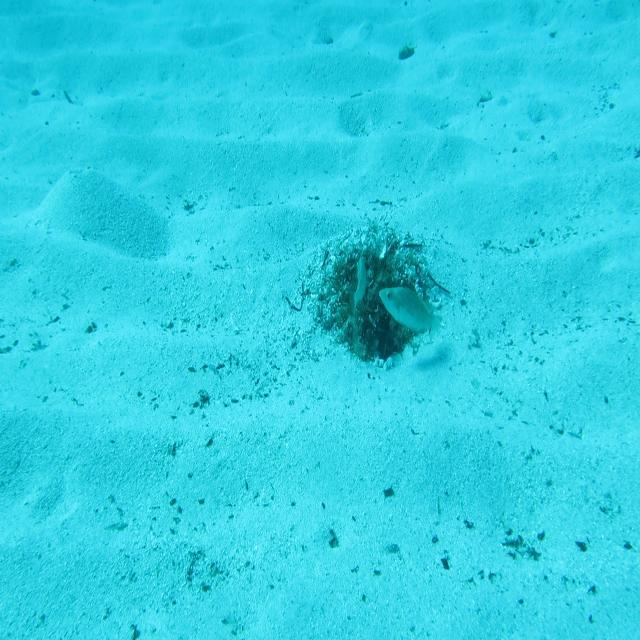GB: (378, 277, 443, 347)
female: (346, 252, 368, 323)
nest: (317, 198, 444, 364)
